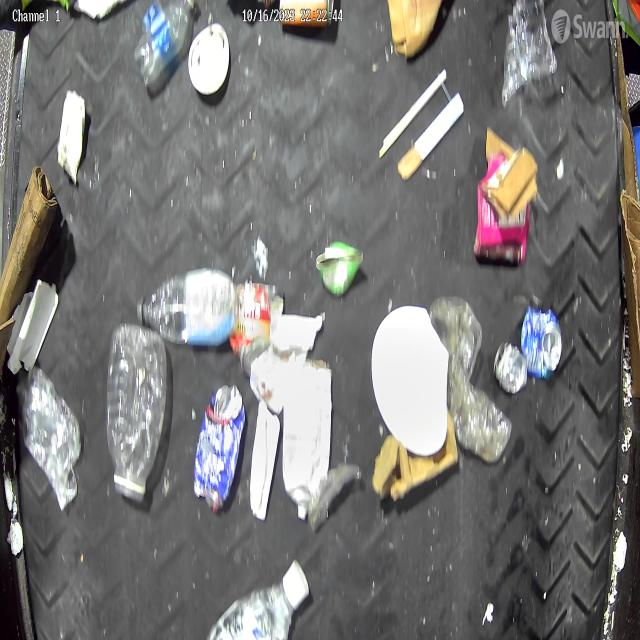can: (193, 383, 246, 513), (229, 282, 284, 377), (520, 305, 562, 380), (316, 239, 363, 298), (493, 341, 528, 395)
milk_jug: (371, 303, 449, 454)
plastic_bottle: (108, 325, 168, 498), (137, 265, 233, 346), (135, 0, 197, 85)
